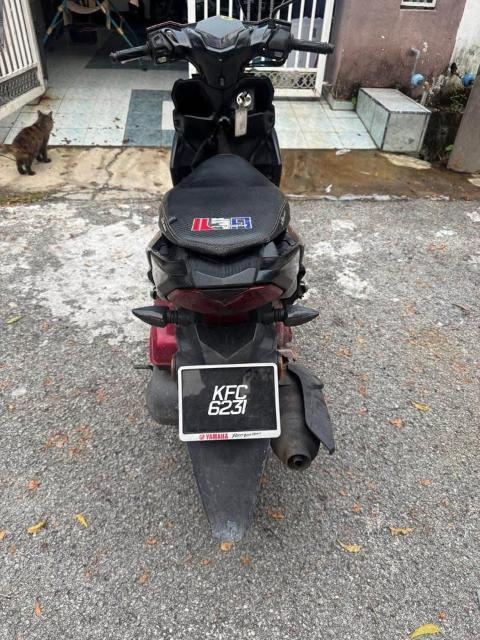License_Plate: (178, 362, 283, 442)
motorcycle: (109, 4, 337, 545)
